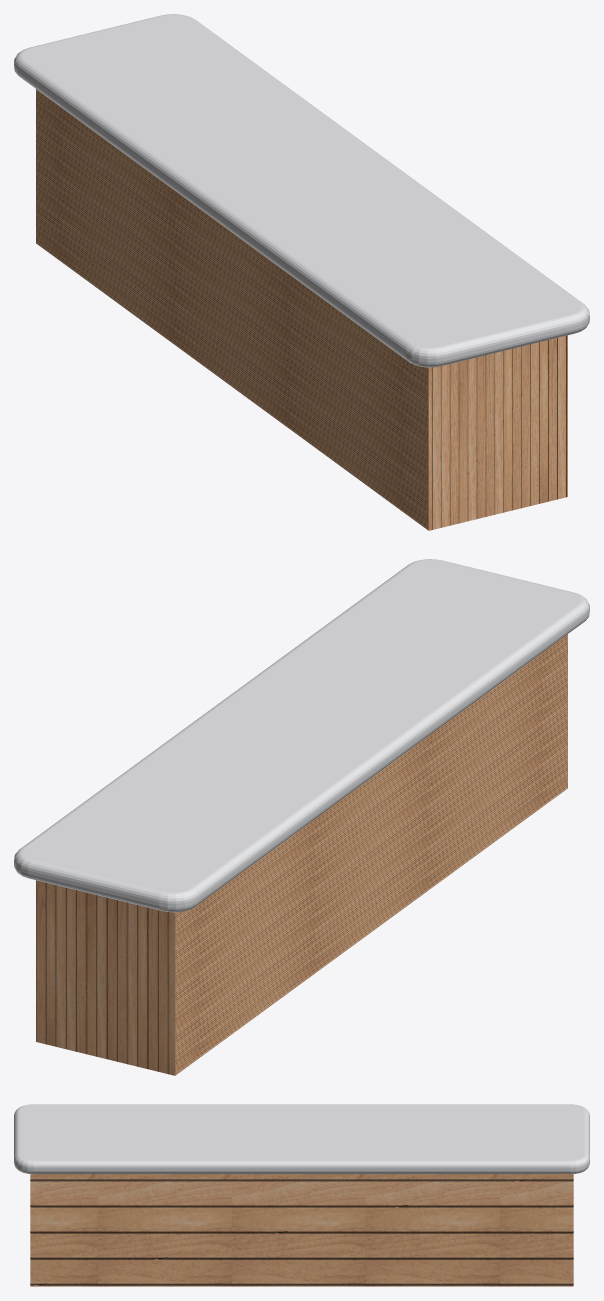
The model's file is bench.glb.
3 renders of one model, top to bottom at view 1: azimuth 30°, elevation 25°; view 2: azimuth 150°, elevation 25°; view 3: azimuth 270°, elevation 25°, orthographic. The views are drawn at different scales.
Visible parts, largest first — view 1: Cube; view 2: Cube; view 3: Cube.
Boxes of the visible parts, left/top/right/bottom form: Cube: left=14, top=14, right=589, bottom=530; Cube: left=14, top=559, right=589, bottom=1075; Cube: left=14, top=1104, right=589, bottom=1286.
Size of the model in its own units: 1 by 1 by 4.
2 materials, 1 textured.
